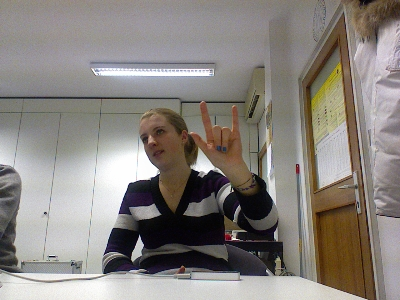我爱你: (187, 98, 243, 170)
